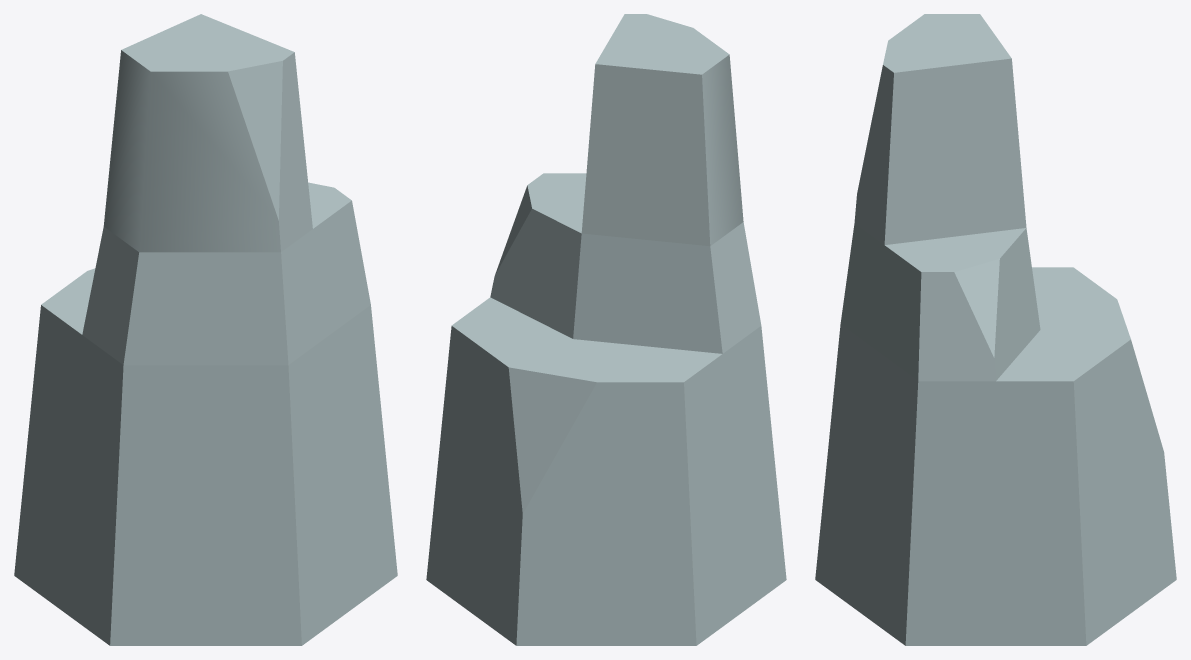
File: stone_tallG.glb
3 views of the same model, side by side, from view 1: azimuth 30°, elevation 25°; view 2: azimuth 150°, elevation 25°; view 3: azimuth 270°, elevation 25° (orthographic). The views are drawn at different scales.
Visible parts, largest first — view 1: stone_tallG; view 2: stone_tallG; view 3: stone_tallG.
Boxes of the visible parts, <box> form: stone_tallG: <box>14,14,397,645</box>; stone_tallG: <box>426,14,786,645</box>; stone_tallG: <box>815,14,1176,645</box>.
Bounding box in the file's own units: 0.4249 × 0.7829 × 0.4907.
